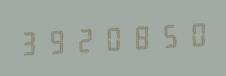eight: (125, 19, 151, 53)
five: (152, 17, 178, 52)
nine: (44, 23, 70, 58)
three: (17, 25, 43, 59)
two: (71, 22, 97, 56)
zero: (98, 20, 124, 55), (179, 16, 205, 51)
